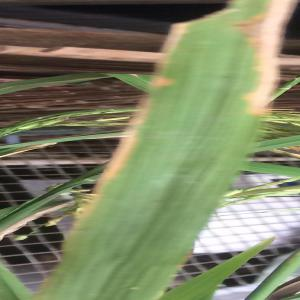Bacterial_Blight: (157, 1, 284, 205)
